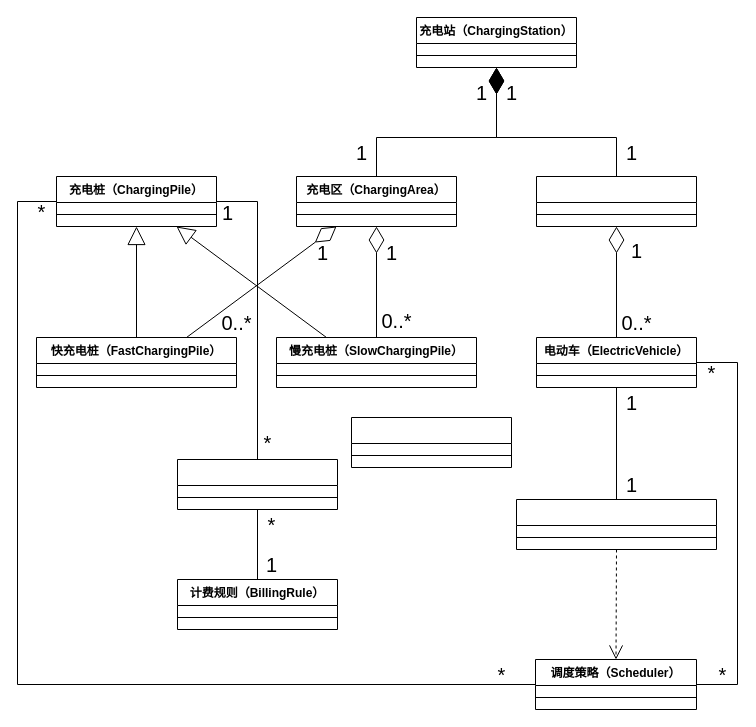
Image size: 756x727. Some labels were removed from this diagram. The shapes that lost their labels are listed below. From the top down, each one's centre as x and y in pixels, then its label:
At [616,201]: "等候区（WaitingArea）".
At [431,442]: "用户（User）".
At [257,484]: "充电详单（ChargingDetail）".
At [616,524]: "充电请求（ChargingRequest）".
